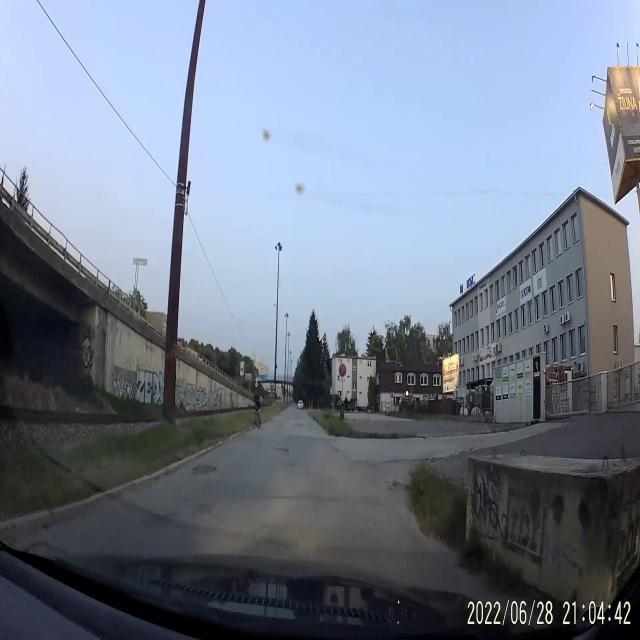Pothole: (188, 460, 218, 478), (273, 443, 292, 457)
